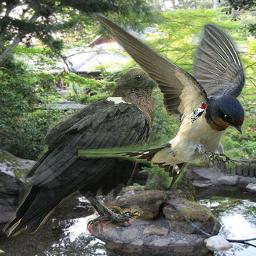Crow: (2, 67, 170, 238)
Swallow: (78, 10, 246, 188)
Woodpecker: (189, 100, 208, 124)
